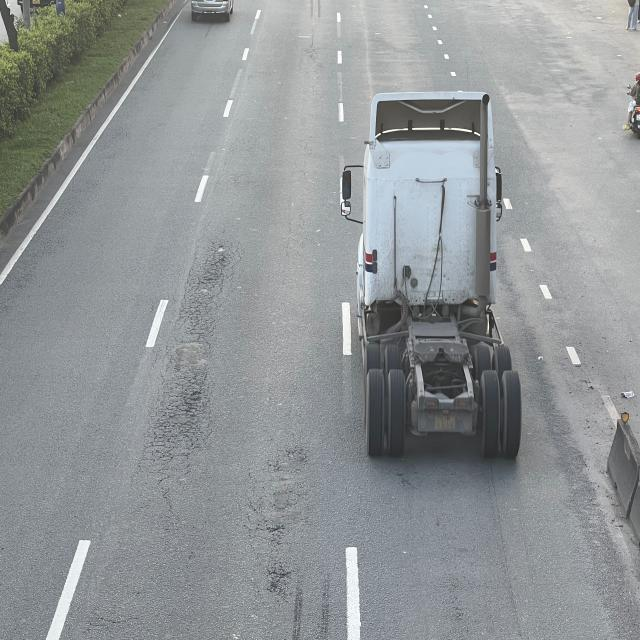container: (342, 93, 519, 463)
